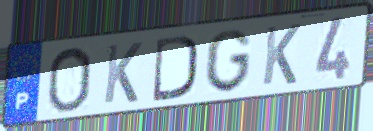4: (313, 14, 352, 84)
D: (151, 33, 200, 104)
G: (203, 27, 252, 95)
K: (102, 40, 145, 106), (260, 22, 303, 87)
O: (44, 44, 94, 115)
